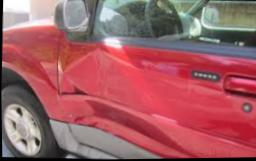Door: (57, 47, 211, 159)
